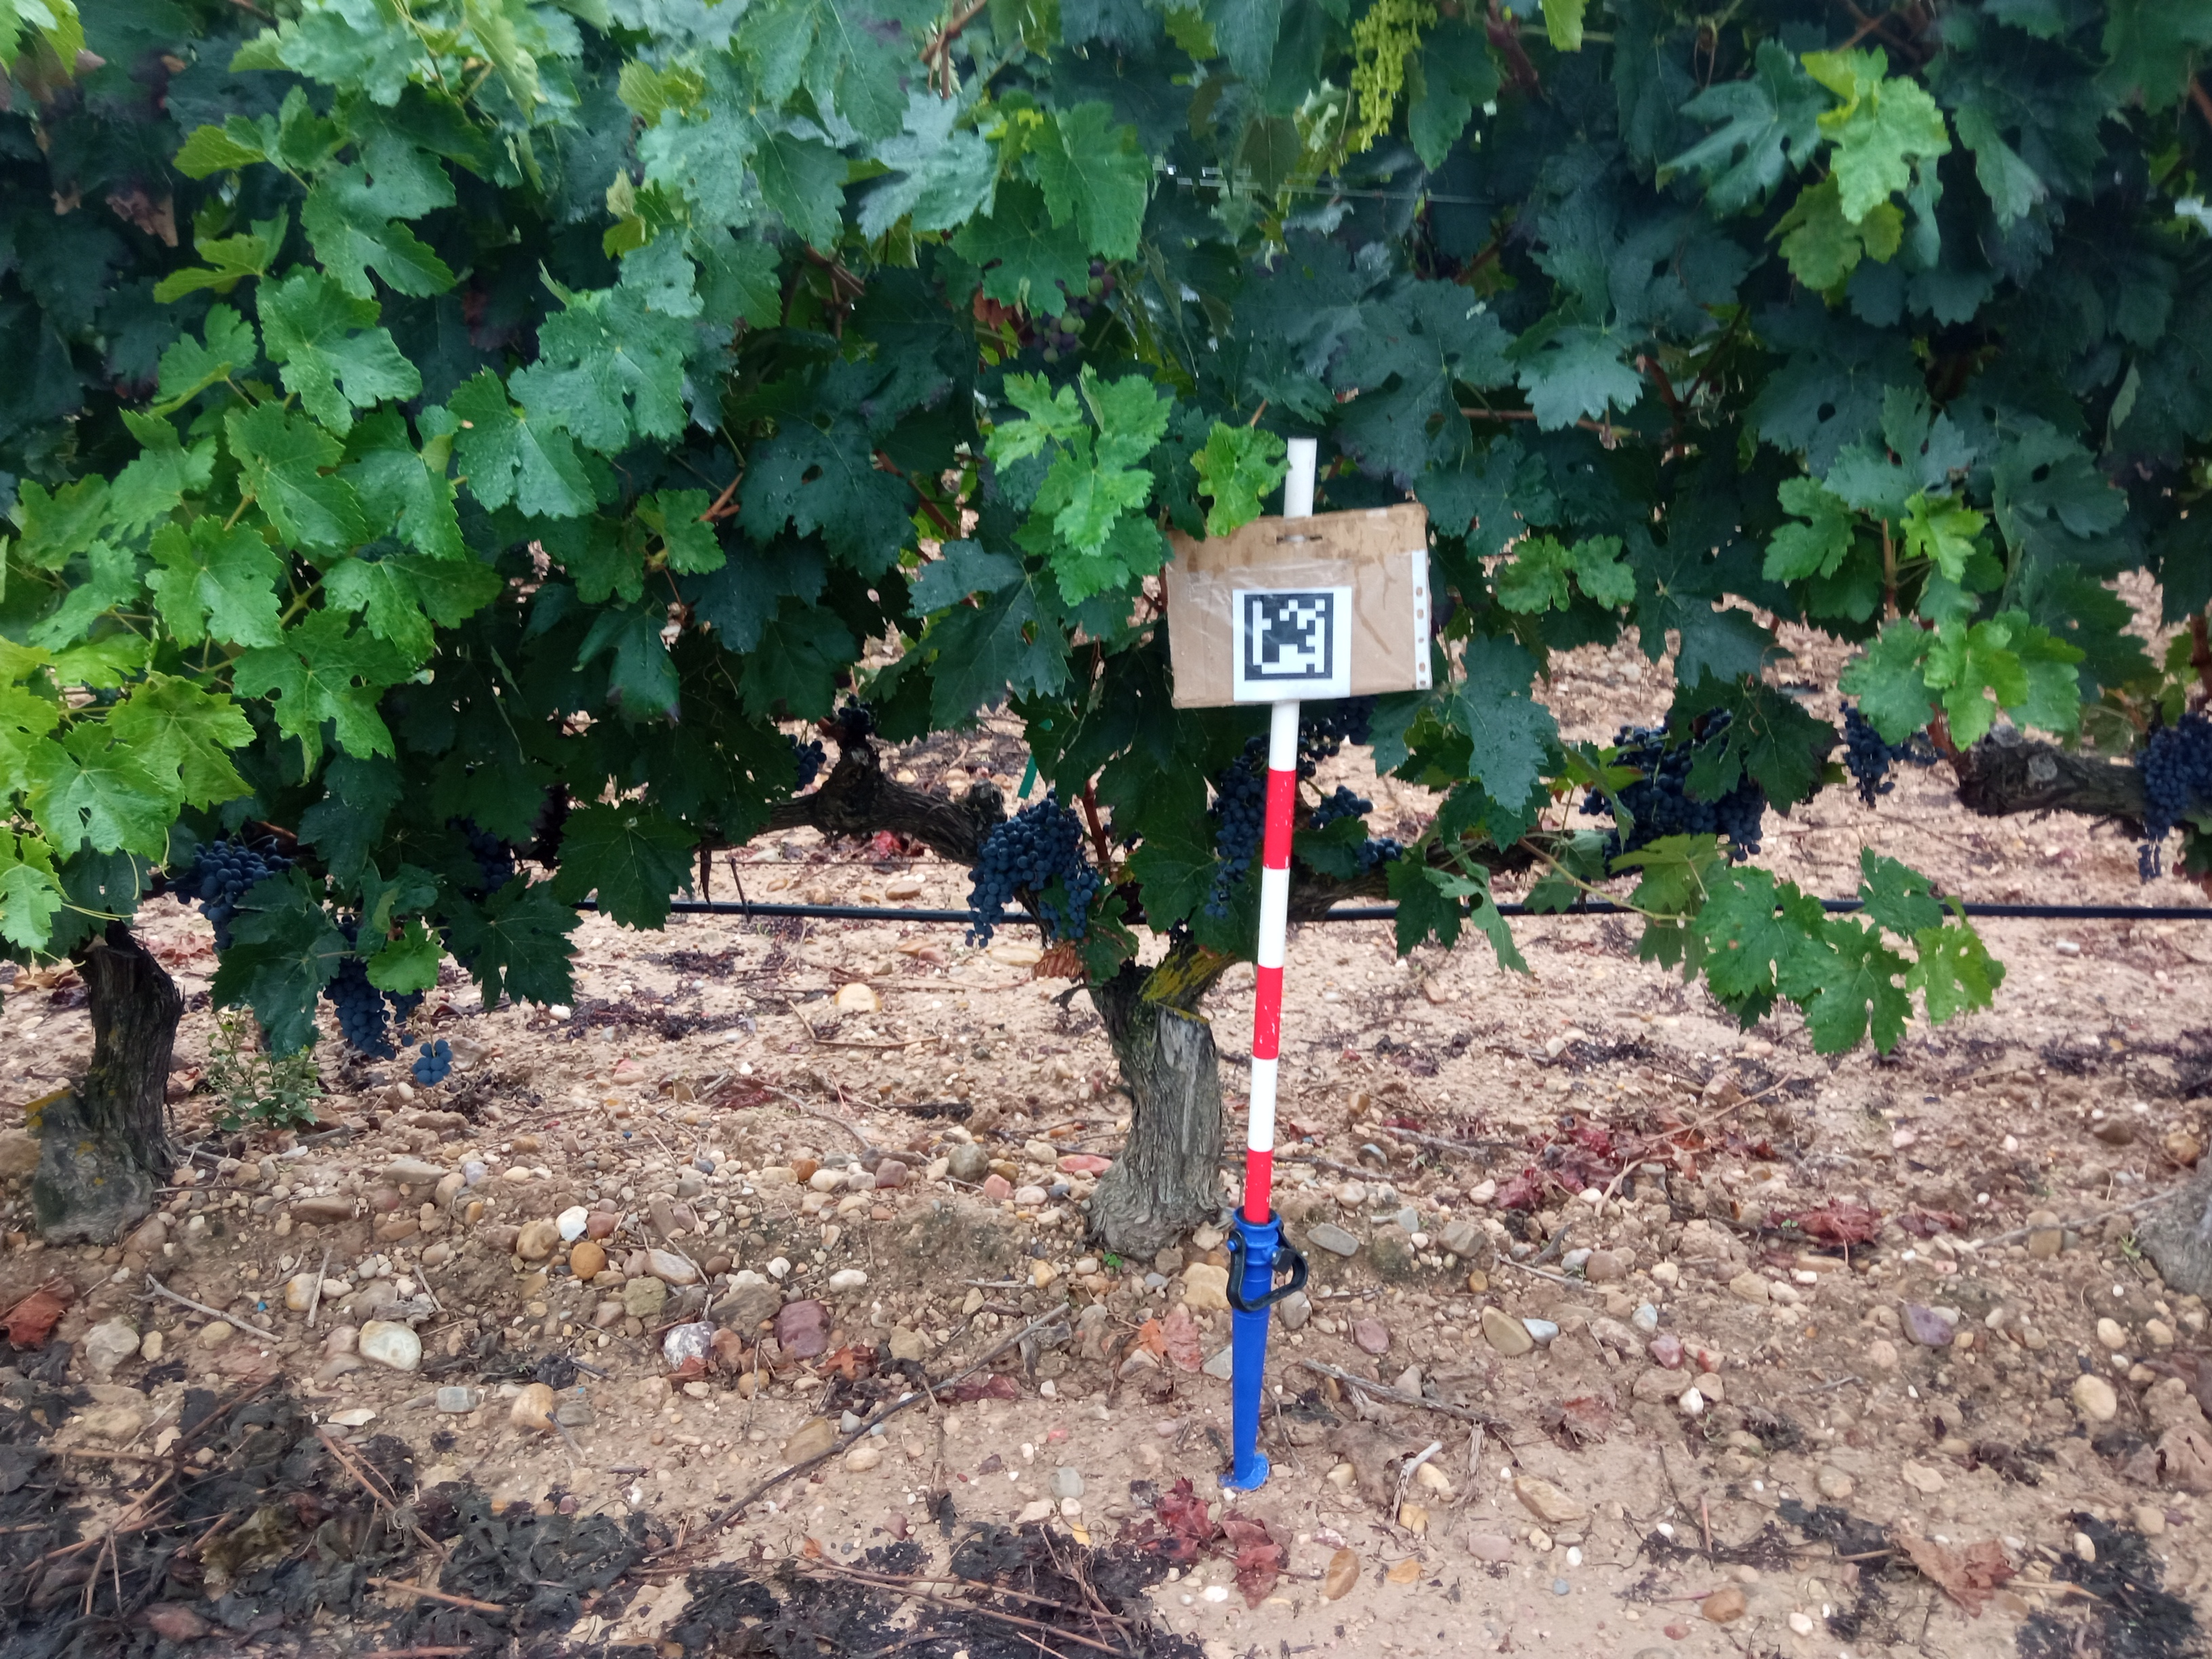grapes: (165, 842, 291, 950), (1353, 0, 1437, 152), (1204, 734, 1270, 918), (965, 817, 1045, 948), (1033, 261, 1116, 359), (2135, 732, 2191, 878), (324, 960, 394, 1060), (1017, 789, 1089, 878), (1839, 701, 1897, 807), (1719, 777, 1766, 859), (1604, 826, 1667, 878), (1618, 774, 1684, 823), (1296, 718, 1345, 779), (1312, 786, 1372, 829), (2179, 714, 2212, 793), (381, 988, 425, 1044), (1613, 727, 1663, 770), (787, 737, 826, 789), (413, 1040, 451, 1087), (1064, 875, 1092, 938), (1338, 697, 1374, 744), (451, 819, 498, 854), (1893, 732, 1946, 763), (1357, 838, 1404, 868), (838, 695, 869, 730), (1684, 802, 1717, 833), (481, 861, 510, 894), (1703, 706, 1733, 739), (1667, 741, 1698, 770), (1038, 901, 1061, 939), (1580, 789, 1611, 816), (334, 917, 357, 943), (458, 955, 477, 972), (1122, 833, 1137, 847)
